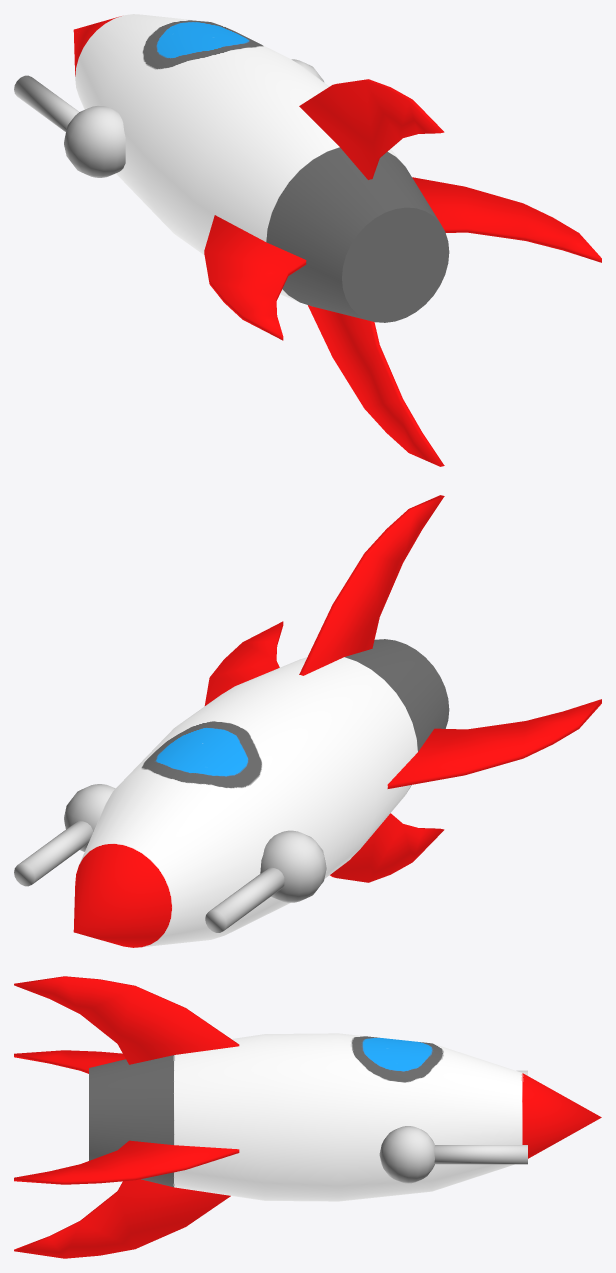
Rendered from rocket2.glb.
3 renders of one model, top to bottom at view 1: azimuth 30°, elevation 25°; view 2: azimuth 150°, elevation 25°; view 3: azimuth 270°, elevation 25°, orthographic. The views are drawn at different scales.
Visible parts, largest first — view 1: rocket, gun; view 2: rocket, gun; view 3: rocket, gun.
Part boxes in pixels (x1=…): rocket: x1=73, y1=14, x2=601, y2=466; gun: x1=14, y1=59, x2=324, y2=177; rocket: x1=73, y1=495, x2=601, y2=947; gun: x1=14, y1=784, x2=326, y2=932; rocket: x1=14, y1=976, x2=601, y2=1258; gun: x1=379, y1=1070, x2=527, y2=1183.
Bounding box in the file's own units: 3.91 × 3.91 × 7.42.
1 material, 1 textured.
